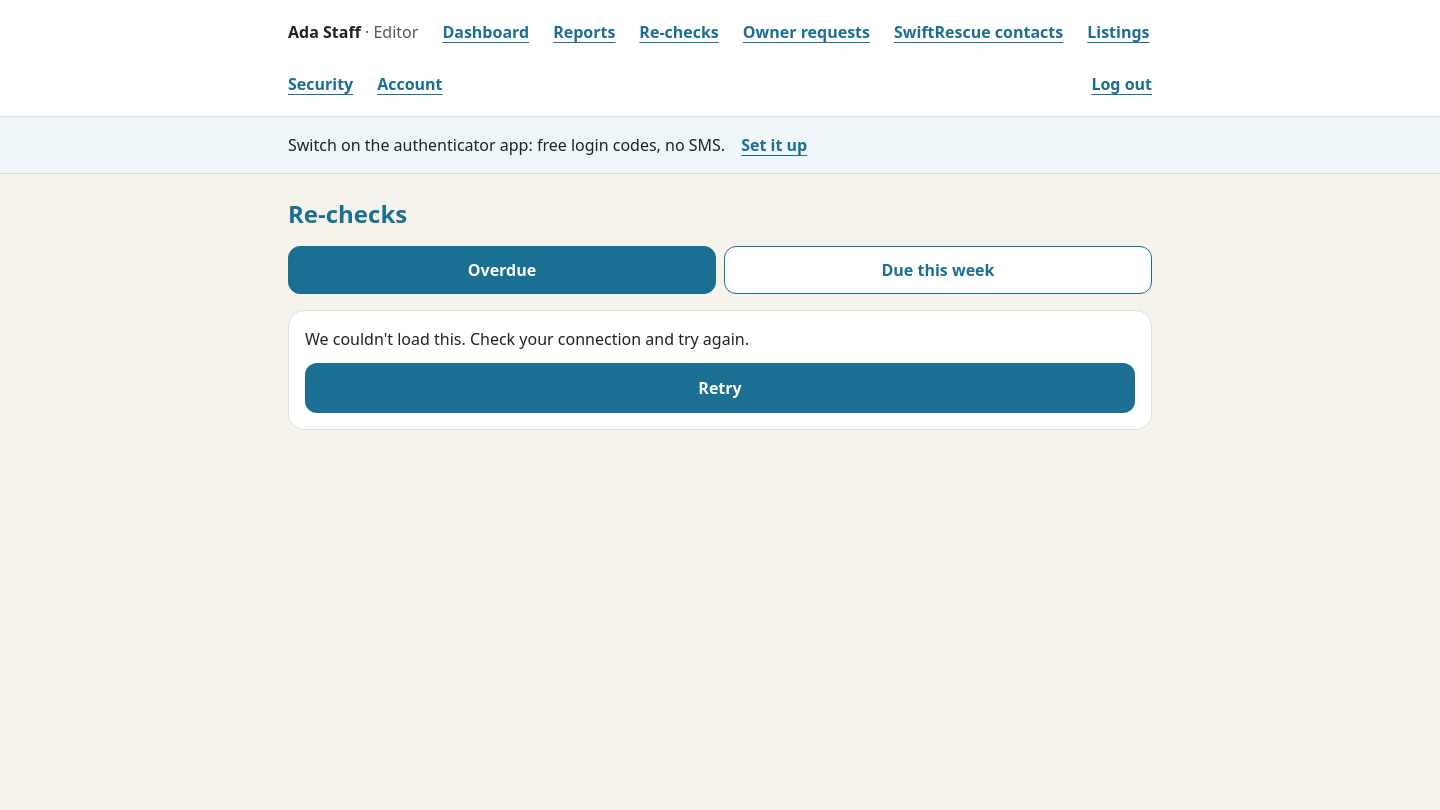
Test: the list › shows the error with Retry, and Retry asks again
The image size is (1440, 810).
Expected: the text "We couldn't load this. Check your connection and try again." is shown, [305,328,749,350]
What coordinates should you click on to do the following:
click the button "Retry"
I would click on:
 (720, 388)
Its box is [305,363,1135,413].
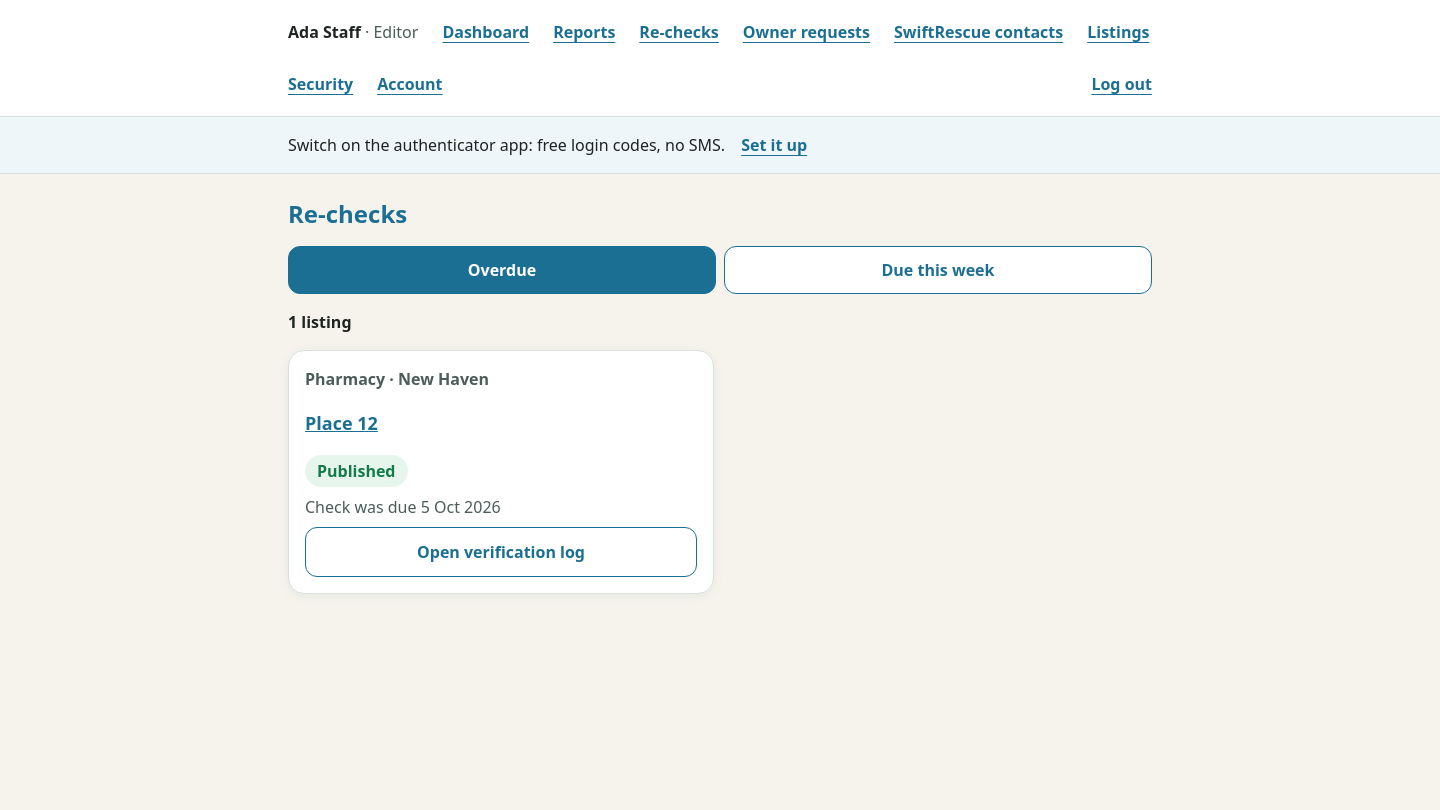
Result: the element that starts with "Pharmacy" is shown at [288,350,714,594]
